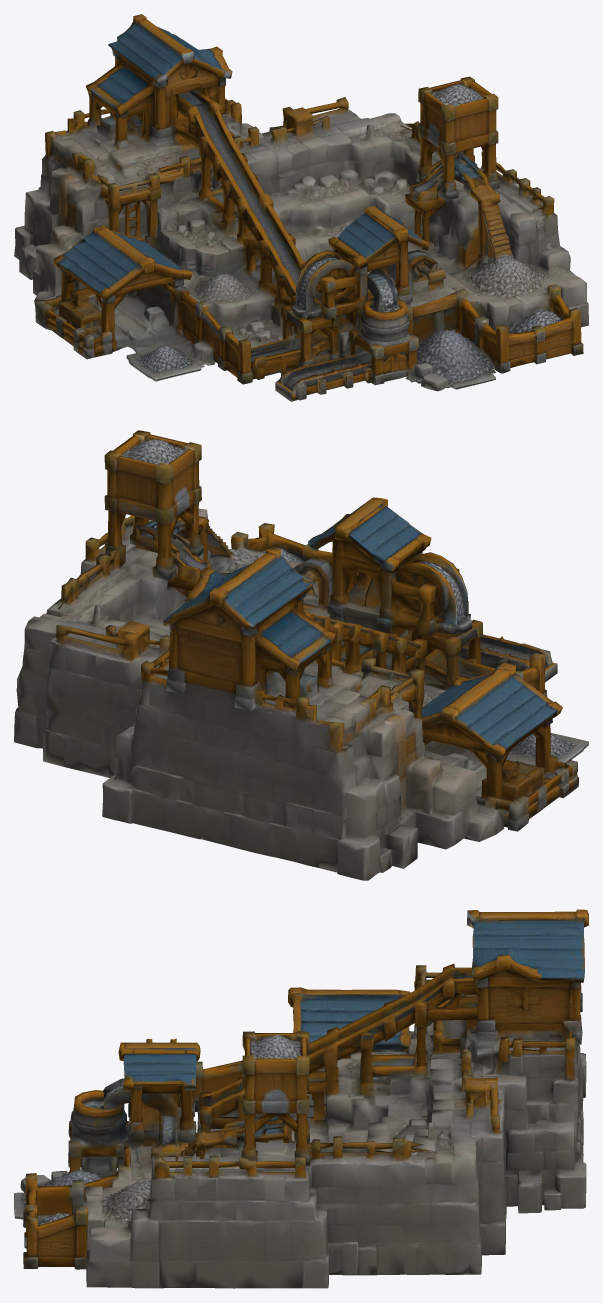
Rendered from quarry_stage2.glb.
3 views of the same model, one above another, from view 1: azimuth 30°, elevation 25°; view 2: azimuth 150°, elevation 25°; view 3: azimuth 270°, elevation 25° (orthographic). The views are drawn at different scales.
Visible parts, largest first — view 1: tripo_node_289011a1-d95f-4b4e-82bd-3c0104f3d1a7; view 2: tripo_node_289011a1-d95f-4b4e-82bd-3c0104f3d1a7; view 3: tripo_node_289011a1-d95f-4b4e-82bd-3c0104f3d1a7.
Part boxes in pixels (x1=…): tripo_node_289011a1-d95f-4b4e-82bd-3c0104f3d1a7: x1=14, y1=14, x2=588, y2=401; tripo_node_289011a1-d95f-4b4e-82bd-3c0104f3d1a7: x1=14, y1=430, x2=588, y2=880; tripo_node_289011a1-d95f-4b4e-82bd-3c0104f3d1a7: x1=14, y1=909, x2=588, y2=1288.
Bounding box in the file's own units: 0.963 × 0.4689 × 1.
1 material, 1 textured.
